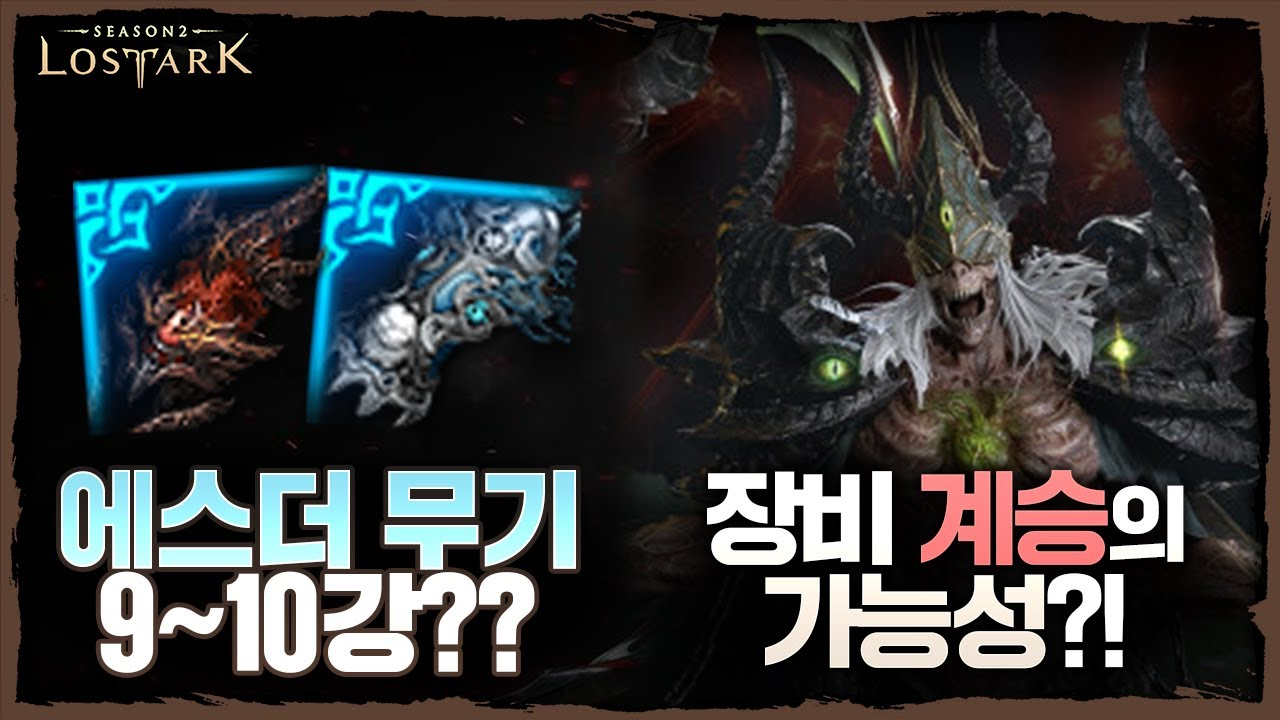9~10강??: (95, 571, 540, 679)
?!: (1046, 570, 1128, 670)
가능성: (759, 570, 1047, 668)
계승의: (918, 467, 1188, 570)
무기: (380, 464, 582, 573)
에스더: (53, 463, 357, 572)
장비: (706, 468, 896, 569)
